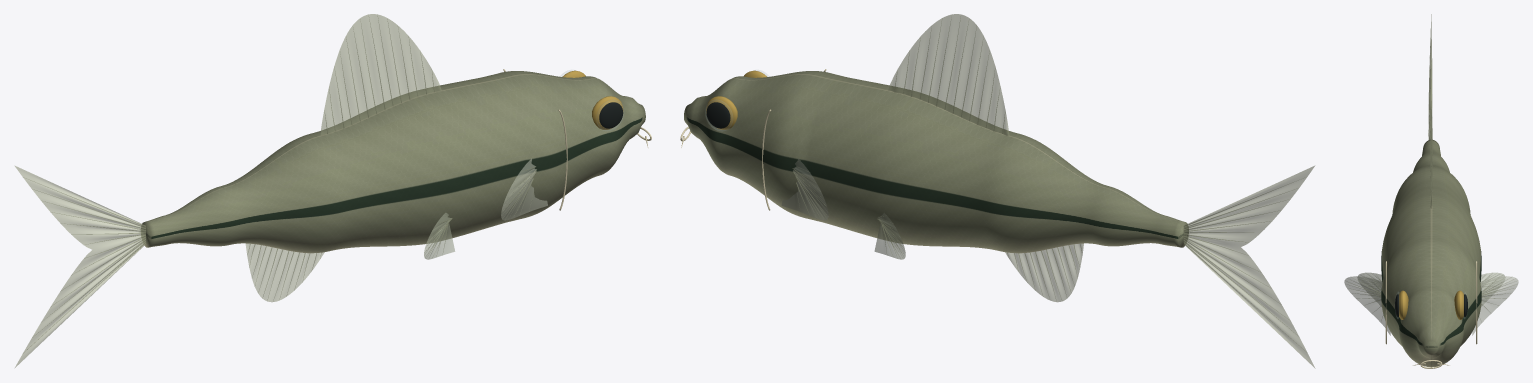
Rendered from sae-desktop.glb.
The picture shows the model from 3 angles, left to right: view 1: azimuth 30°, elevation 25°; view 2: azimuth 150°, elevation 25°; view 3: azimuth 270°, elevation 25°; orthographic projection. The views are drawn at different scales.
Visible parts, largest first — view 1: skin, dorsal, tail, dorsal-ray, anal, pectoral-left, pelvic-left, eye-iris--1; view 2: skin, dorsal, tail, dorsal-ray, anal, pectoral-left, pelvic-left, eye-iris--1, eye-pupil--1; view 3: skin, pectoral-left, pelvic-left, dorsal-ray, eye-iris--1, operculum, tail, dorsal, eye-pupil--1.
Part boxes in pixels (x1,y1,x2,y2): skin: [141, 71, 645, 253]; dorsal: [320, 14, 441, 135]; tail: [15, 166, 145, 367]; dorsal-ray: [23, 17, 536, 349]; anal: [245, 243, 324, 302]; pectoral-left: [501, 158, 547, 220]; pelvic-left: [424, 213, 454, 259]; eye-iris--1: [562, 70, 623, 129]; skin: [684, 71, 1188, 253]; dorsal: [888, 14, 1009, 135]; tail: [1184, 166, 1315, 368]; dorsal-ray: [792, 16, 1304, 350]; anal: [1005, 243, 1083, 302]; pectoral-left: [782, 158, 828, 220]; pelvic-left: [874, 213, 905, 259]; eye-iris--1: [706, 70, 766, 129]; eye-pupil--1: [706, 102, 730, 128]; skin: [1381, 139, 1481, 367]; pectoral-left: [1344, 276, 1518, 335]; pelvic-left: [1358, 272, 1504, 306]; dorsal-ray: [1347, 29, 1513, 317]; eye-iris--1: [1399, 290, 1463, 319]; operculum: [1385, 261, 1477, 368]; tail: [1428, 14, 1432, 139]; dorsal: [1430, 101, 1432, 208]; eye-pupil--1: [1395, 294, 1467, 316].
Bounding box in the file's own units: 0.6032 × 0.2447 × 0.1766.
Materials: 11 (1 with a texture image).
